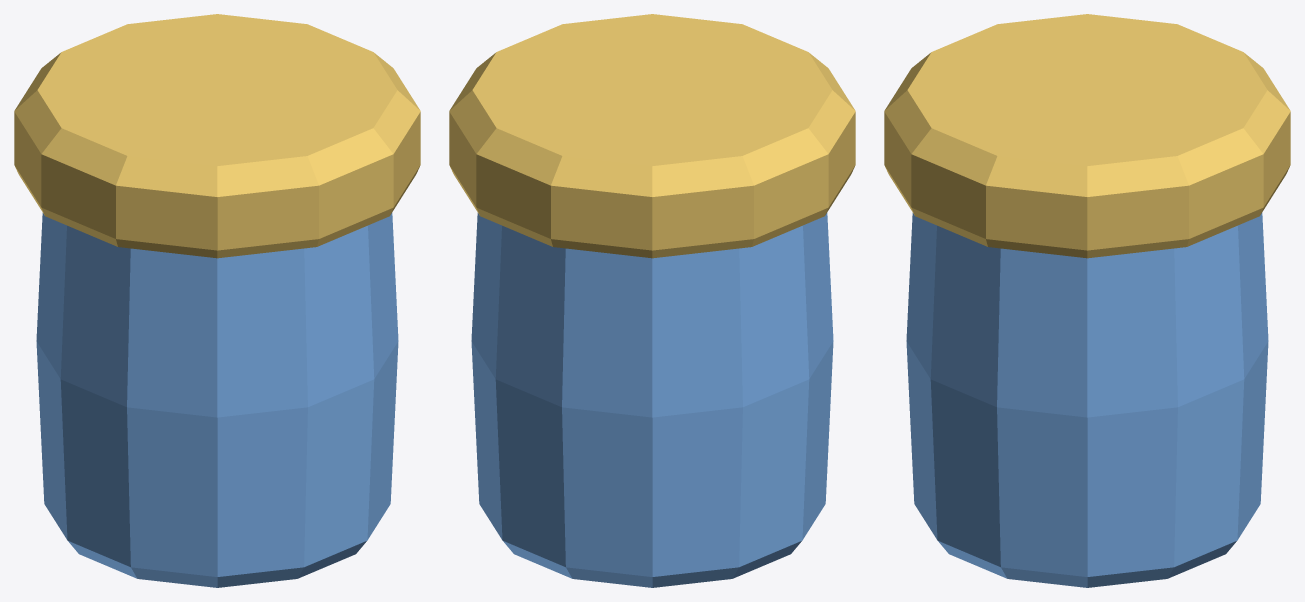
The model's file is Pot_24.fbx.
3 renders of one model, left to right at view 1: azimuth 30°, elevation 25°; view 2: azimuth 150°, elevation 25°; view 3: azimuth 270°, elevation 25°, orthographic.
Visible parts, largest first — view 1: Pot_24; view 2: Pot_24; view 3: Pot_24.
Boxes of the visible parts, <box> form: Pot_24: <box>14,14,420,587</box>; Pot_24: <box>449,14,855,587</box>; Pot_24: <box>884,14,1290,587</box>.
Size of the model in its own units: 0.12 by 0.1401 by 0.12.
